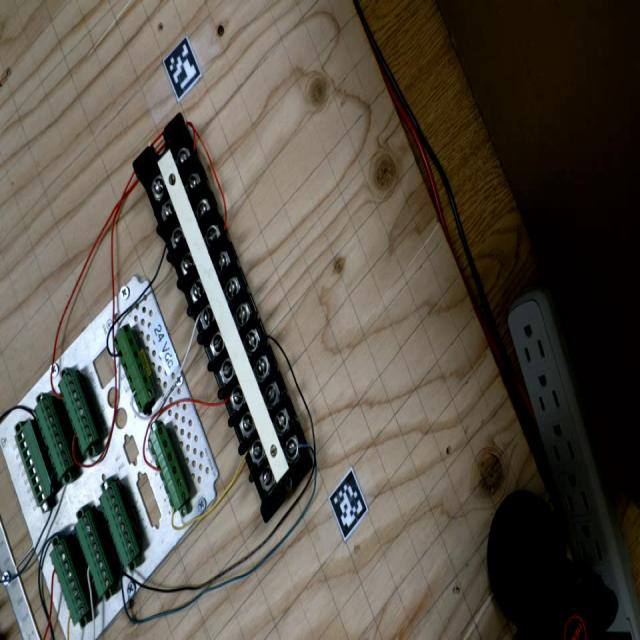Flathead_Block: (122, 112, 325, 523)
Terminal_1: (143, 423, 194, 513), (109, 323, 159, 413)
Terminal_2: (95, 481, 143, 570), (30, 394, 77, 482), (71, 510, 117, 599), (46, 538, 92, 626), (55, 368, 101, 455)
